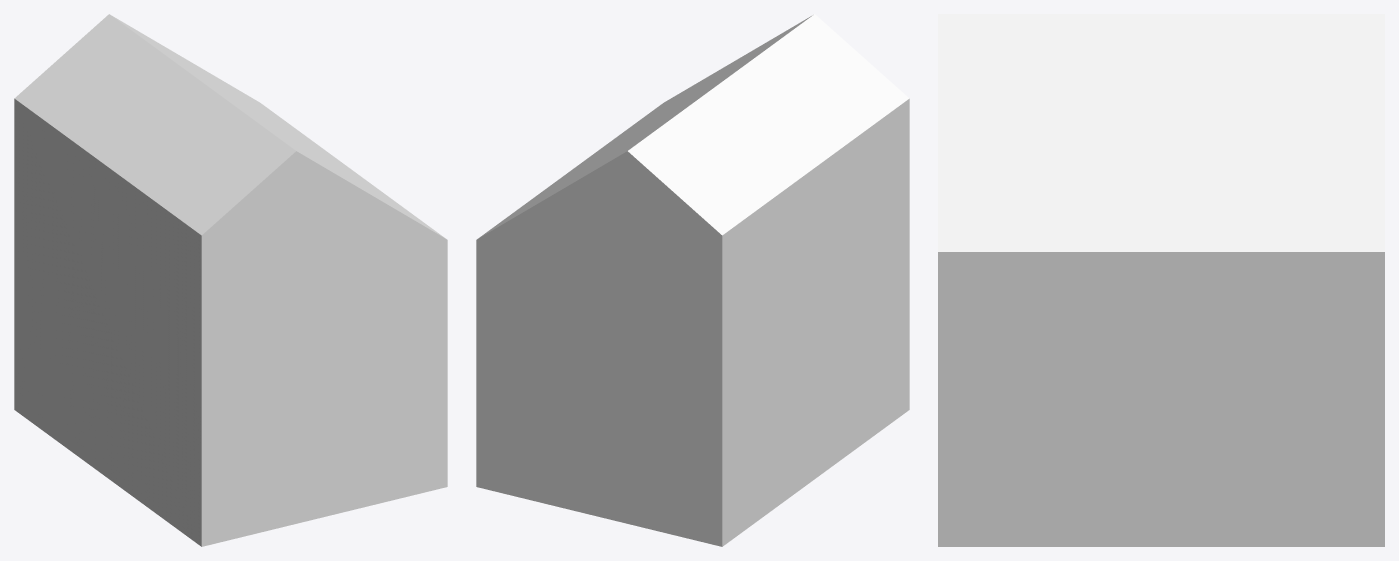
The model's file is Building_5.fbx.
3 renders of one model, left to right at view 1: azimuth 30°, elevation 25°; view 2: azimuth 150°, elevation 25°; view 3: azimuth 270°, elevation 25°, orthographic. The views are drawn at different scales.
Visible parts, largest first — view 1: Cube.005; view 2: Cube.005; view 3: Cube.005.
Part boxes in pixels (bbox=[...]): Cube.005: bbox=[14, 14, 447, 546]; Cube.005: bbox=[476, 14, 909, 546]; Cube.005: bbox=[938, 14, 1384, 546].
Size of the model in its own units: 260 by 376 by 342.
